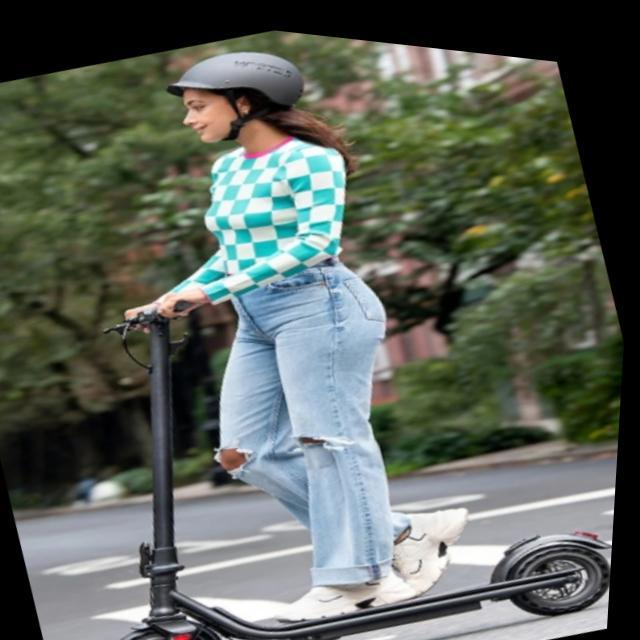Helmet: (159, 43, 309, 147)
